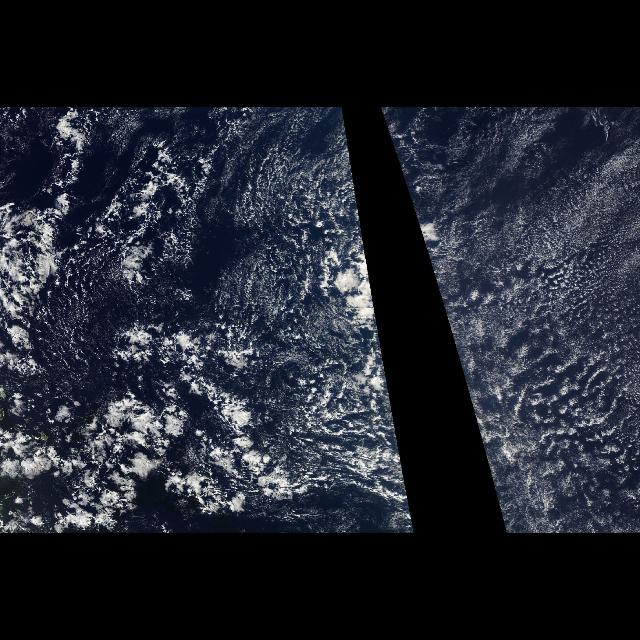Gravel: (390, 115, 640, 533), (391, 397, 417, 533)
Sugar: (447, 107, 639, 475)
